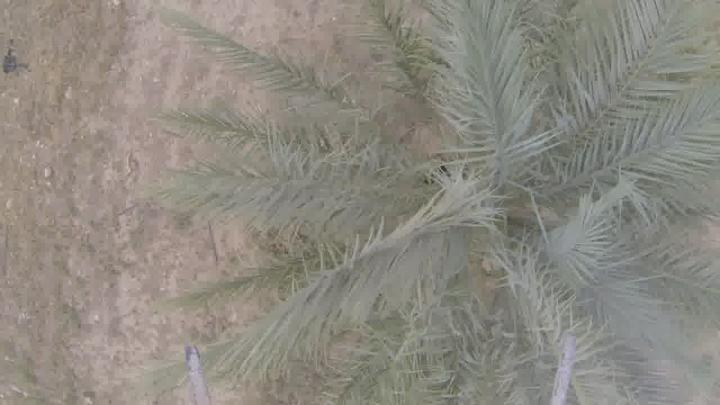Date-Palm-Crown: (291, 11, 697, 387)
